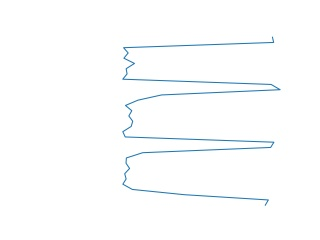majorRiverChannelBar: (117, 37, 284, 209)
